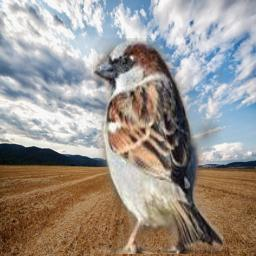Sparrow: (93, 38, 223, 254)
